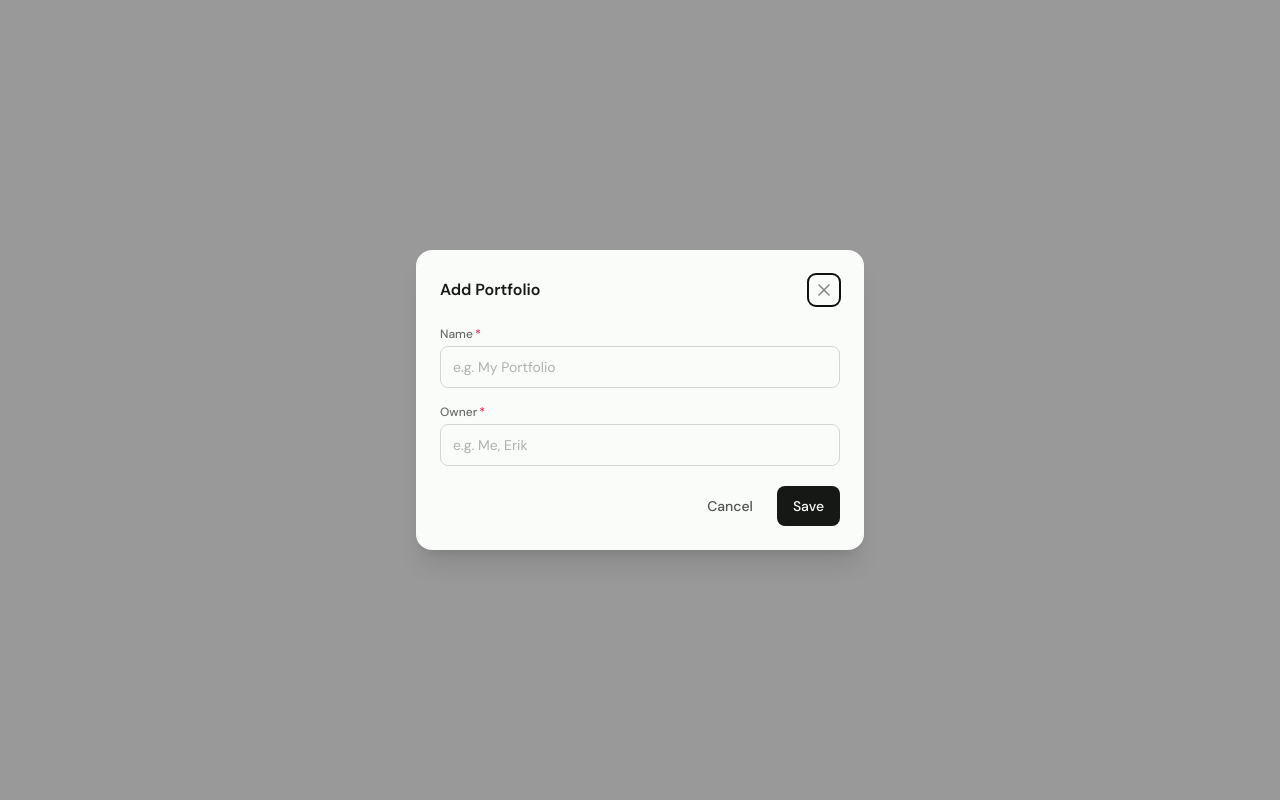
Test: PortfolioDialog › Validation › shows both errors when saving with all fields empty
Click the button "Save": (808, 506) x1=777 y1=486 x2=840 y2=526
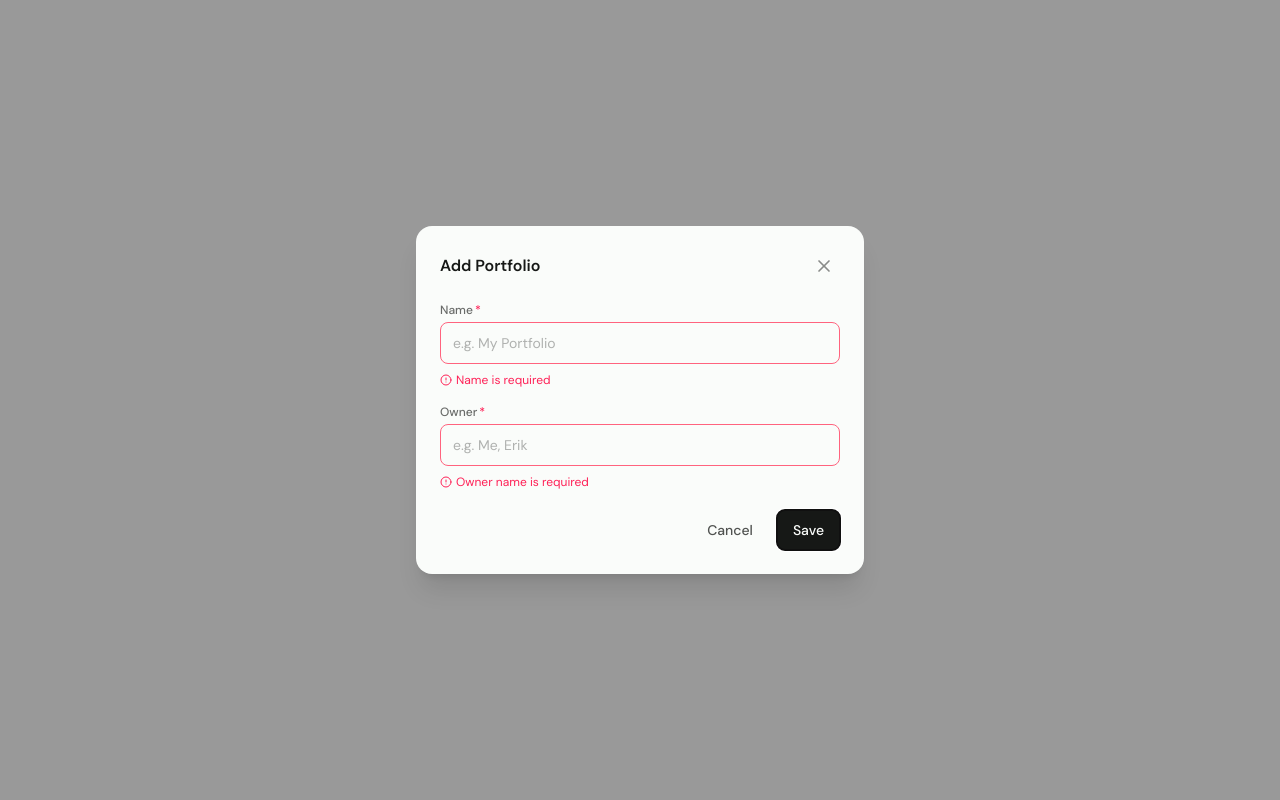
expect the text "Name is required" is shown: met, box x1=440 y1=372 x2=550 y2=388
expect the text "Owner name is required" is shown: met, box x1=440 y1=474 x2=589 y2=490
